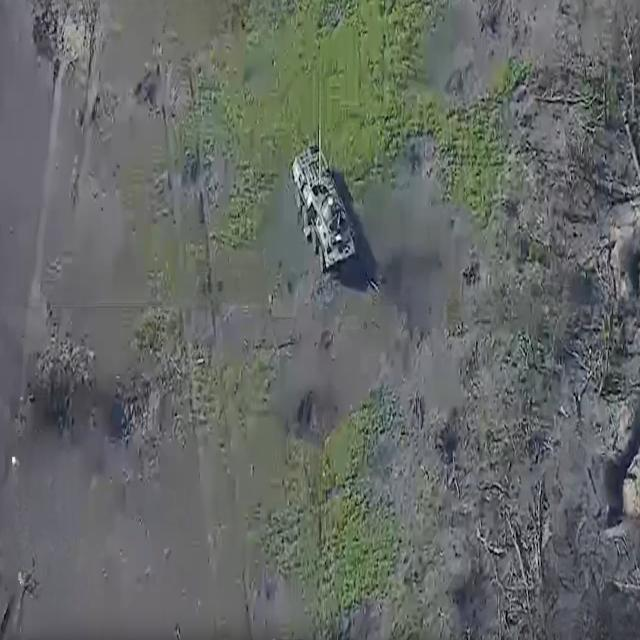APC: (290, 140, 359, 278)
